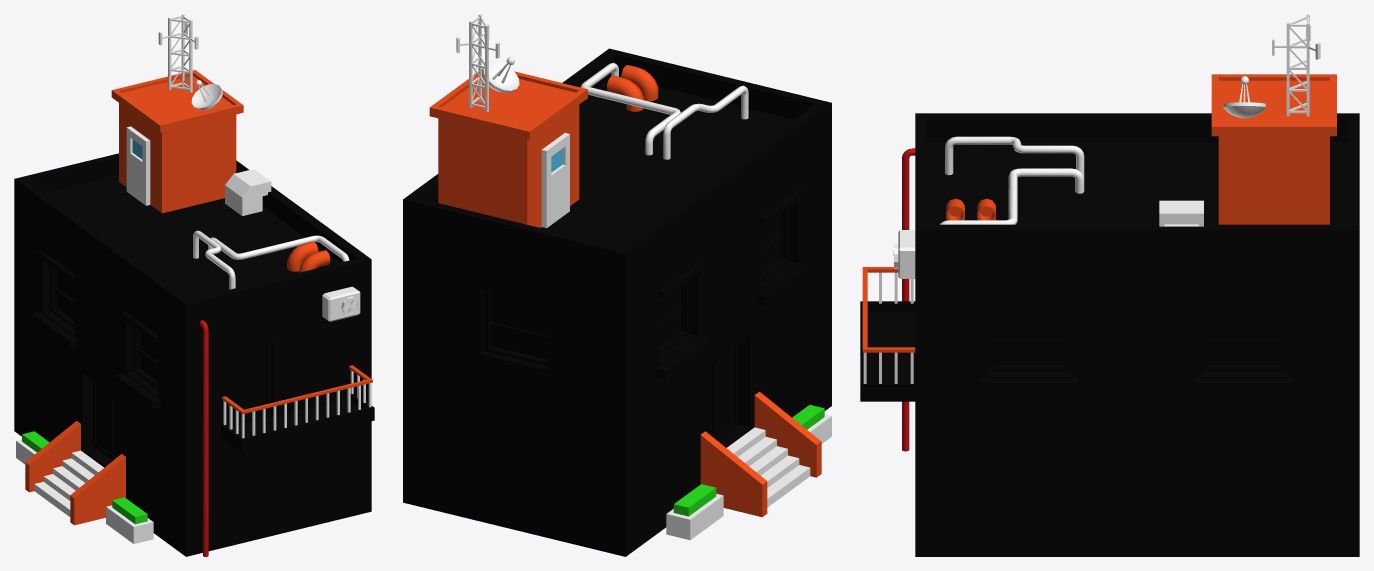
Rendered from Building_01.FBX.
3 views of the same model, side by side, from view 1: azimuth 30°, elevation 25°; view 2: azimuth 150°, elevation 25°; view 3: azimuth 270°, elevation 25° (orthographic). The views are drawn at different scales.
Visible parts, largest first — view 1: Buildings_01; view 2: Buildings_01; view 3: Buildings_01.
Boxes of the visible parts, bbox=[...] form: Buildings_01: bbox=[14, 14, 374, 556]; Buildings_01: bbox=[403, 14, 831, 556]; Buildings_01: bbox=[860, 14, 1359, 556].
Size of the model in its own units: 15.61 by 24.04 by 21.3.
